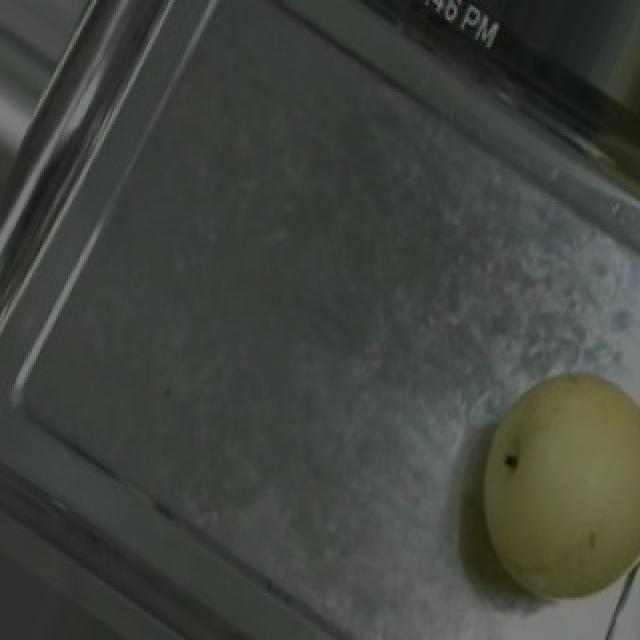Fruit: (438, 340, 640, 637)
